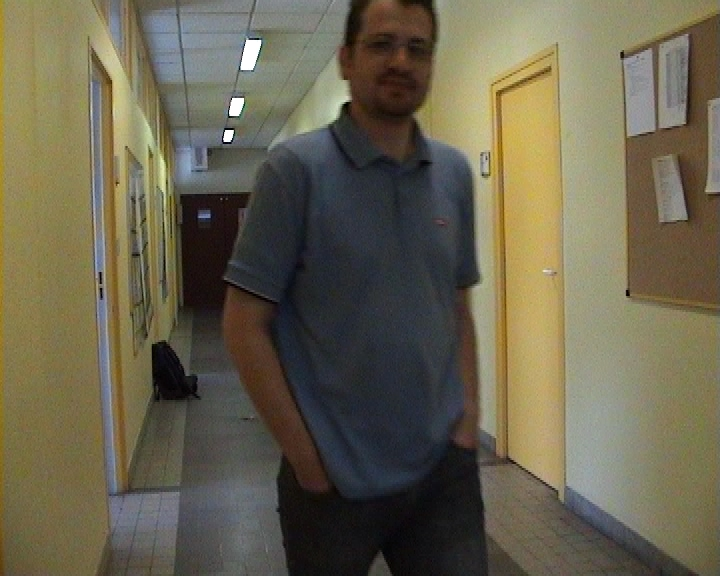leave bag unattended: (126, 307, 213, 435)
